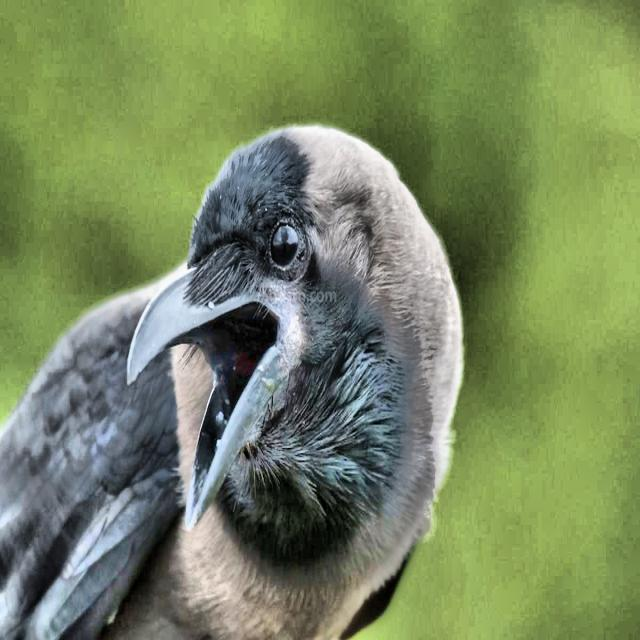crow: (18, 62, 488, 634)
